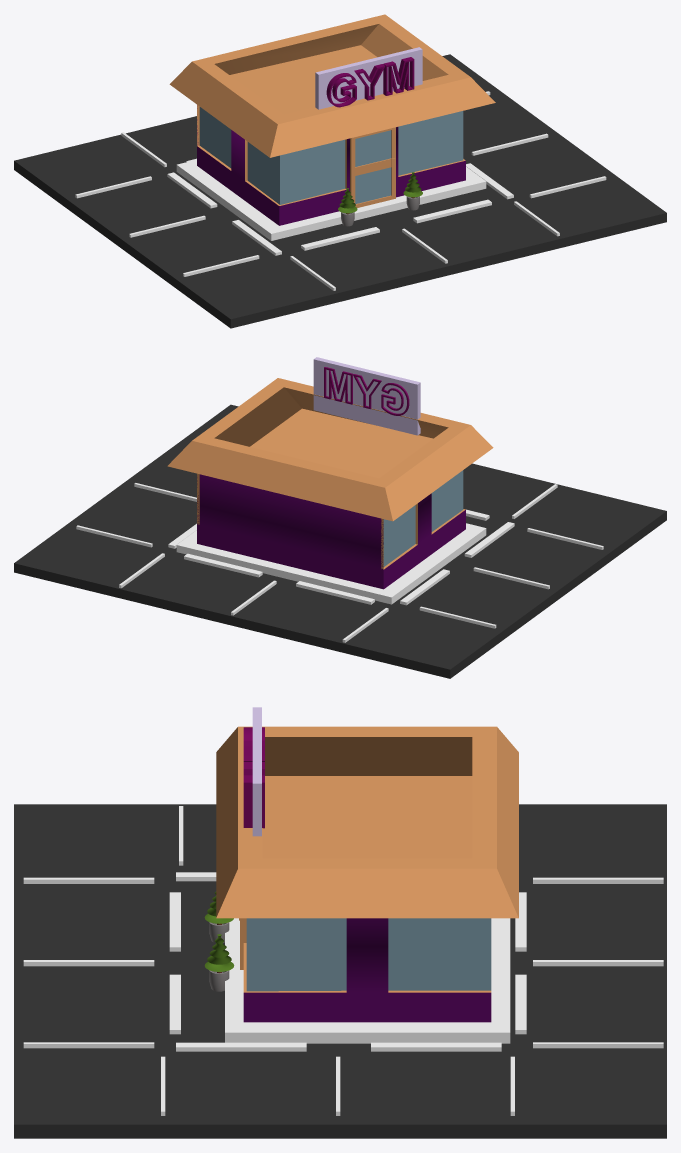
Rendered from Gym_1269.gltf.
The picture shows the model from 3 angles, top to bottom: view 1: azimuth 30°, elevation 25°; view 2: azimuth 150°, elevation 25°; view 3: azimuth 270°, elevation 25°; orthographic projection. The views are drawn at different scales.
Parts seen in each view (by area): view 1: node-0; view 2: node-0; view 3: node-0.
Boxes of the visible parts, x1,y1,x2,y2 form: node-0: [14, 14, 666, 328]; node-0: [14, 357, 666, 678]; node-0: [14, 707, 666, 1138].
Bounding box in the file's own units: 194 × 65.77 × 167.
